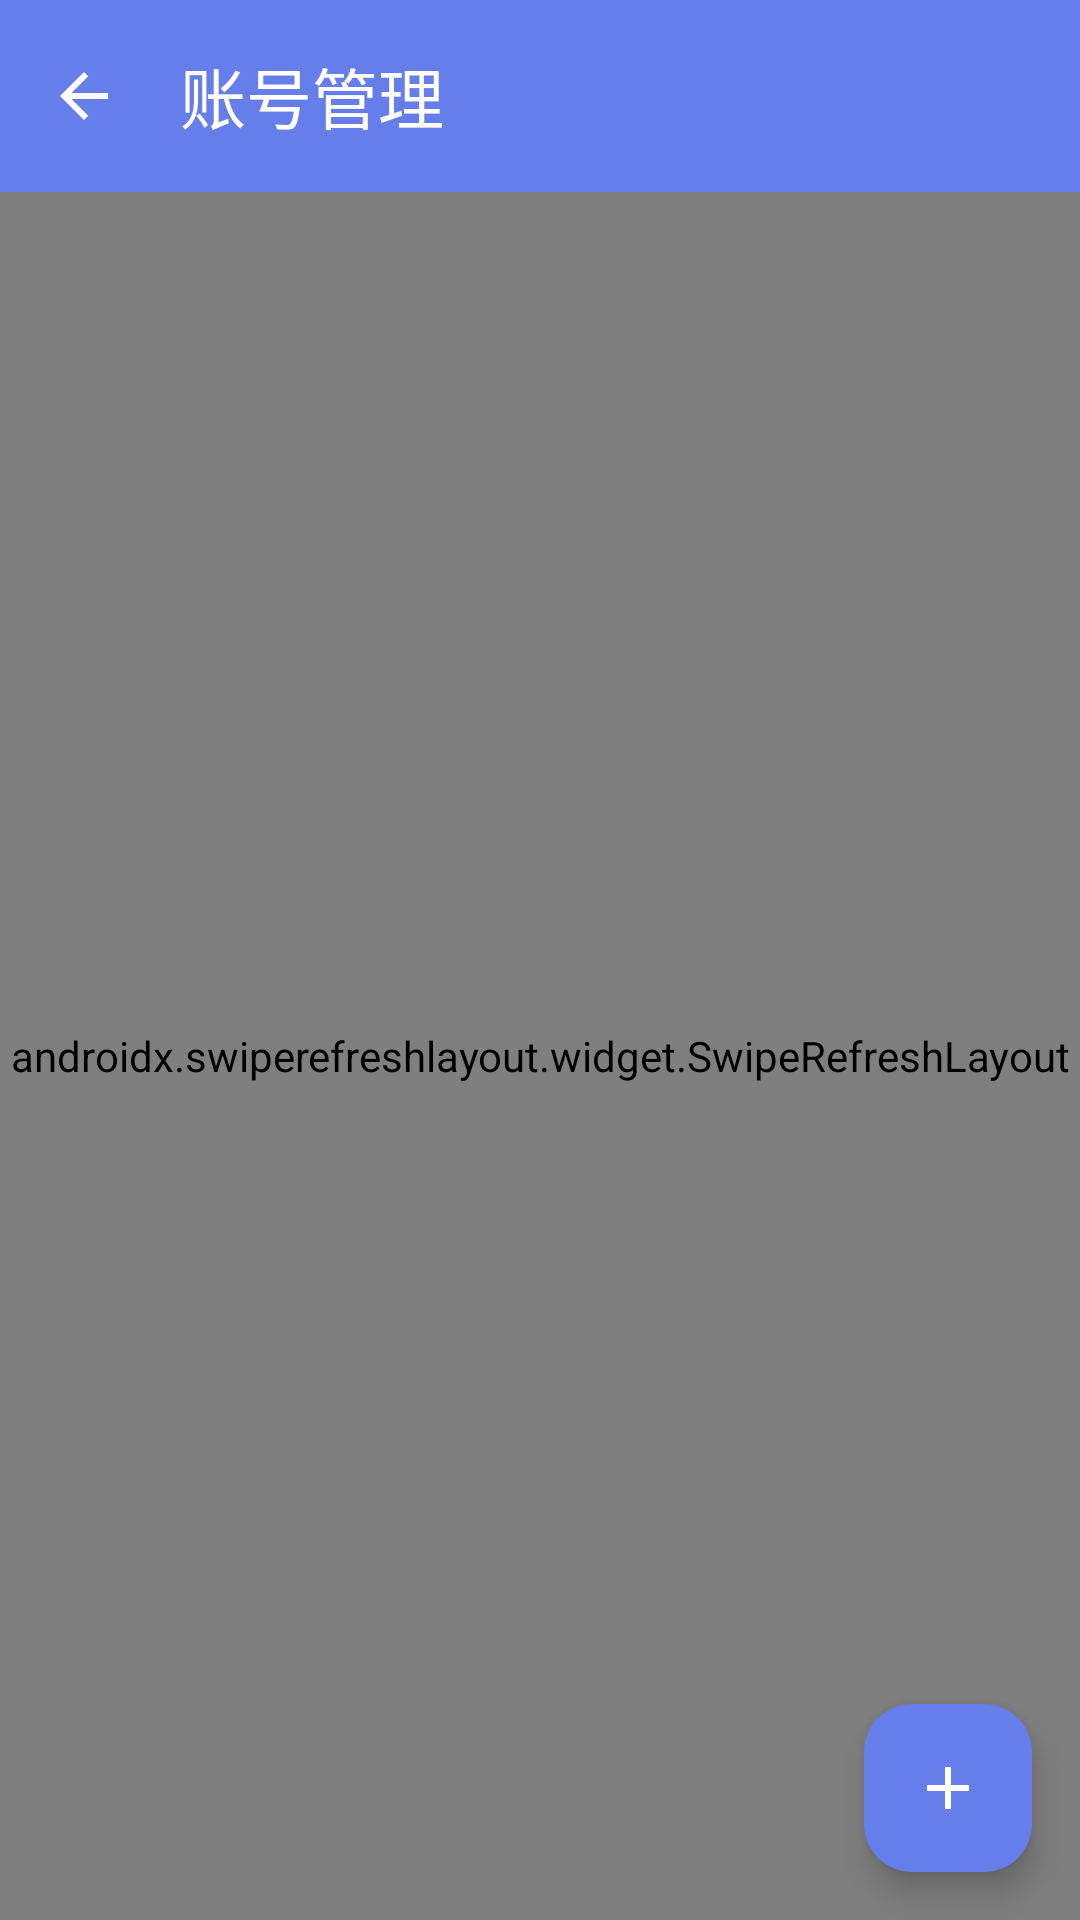

Icon bounding boxes for this 1080 x 1920 phone screenshot, format (x1, y1, x2, y2):
添加账号: (864, 1704, 1032, 1872)
